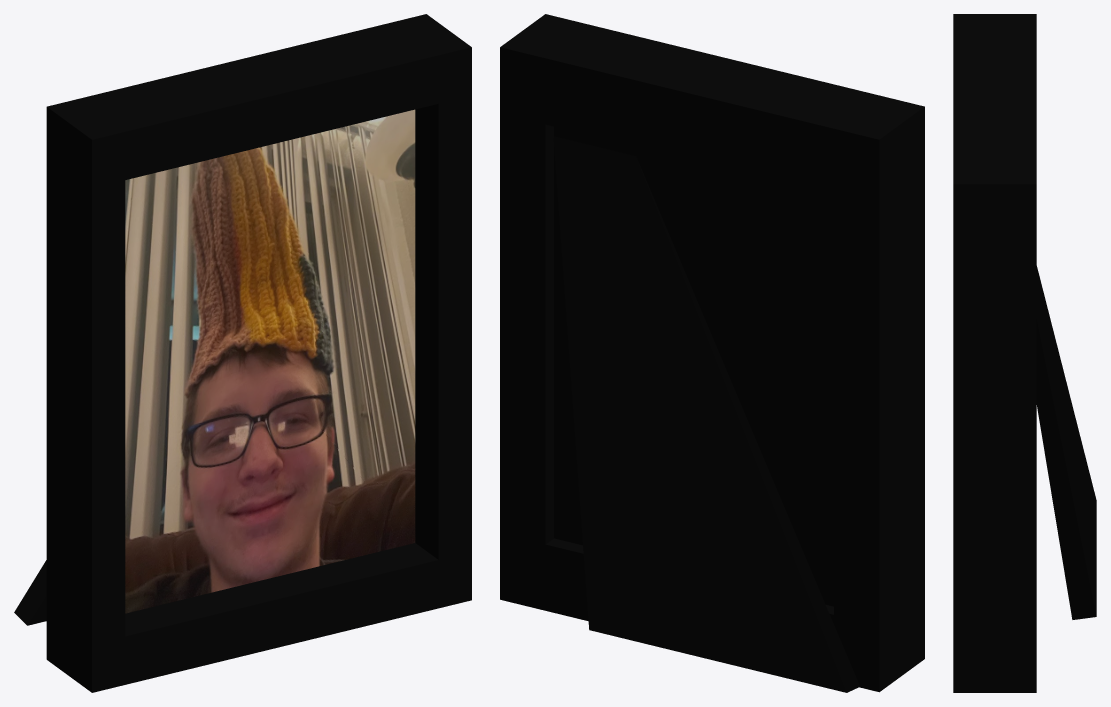
The model's file is aboutme.glb.
3 renders of one model, left to right at view 1: azimuth 30°, elevation 25°; view 2: azimuth 150°, elevation 25°; view 3: azimuth 270°, elevation 25°, orthographic. The views are drawn at different scales.
Parts seen in each view (by area): view 1: Cube.001; view 2: Cube.001; view 3: Cube.001.
Boxes of the visible parts, left/top/right/bottom form: Cube.001: left=14, top=14, right=471, bottom=692; Cube.001: left=500, top=14, right=924, bottom=692; Cube.001: left=953, top=14, right=1096, bottom=692.
Size of the model in its own units: 7.01 by 9.75 by 2.5.
Materials: 2 (1 with a texture image).
